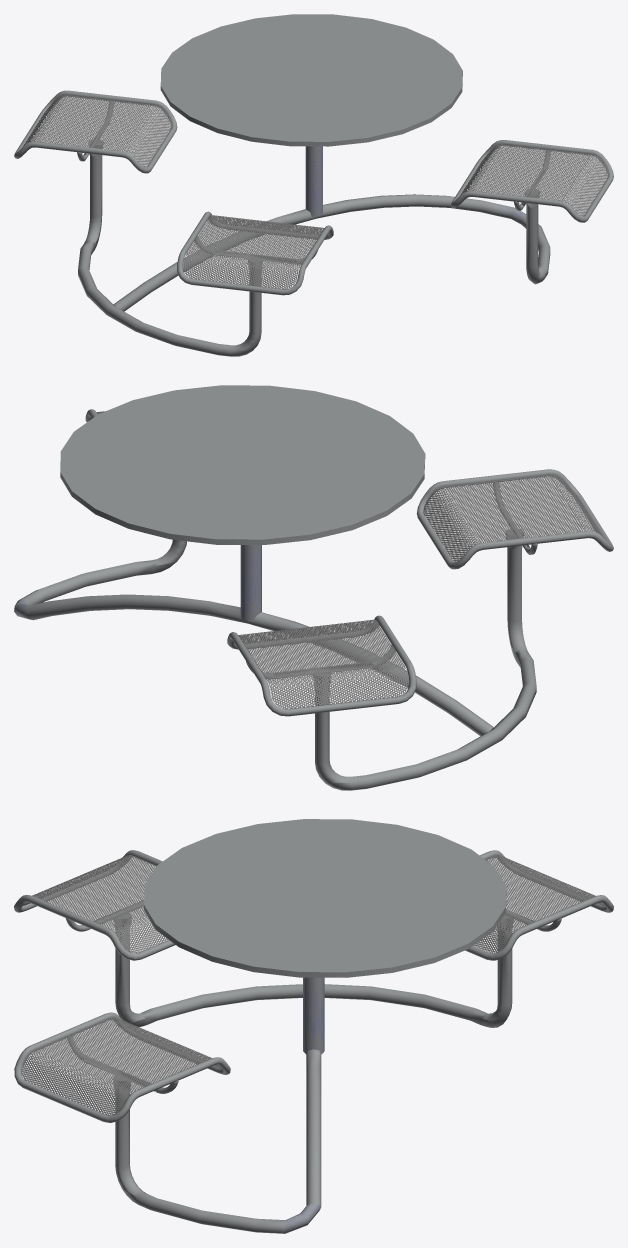
File: table.fbx
3 views of the same model, one above another, from view 1: azimuth 30°, elevation 25°; view 2: azimuth 150°, elevation 25°; view 3: azimuth 270°, elevation 25° (orthographic). The views are drawn at different scales.
Parts seen in each view (by area): view 1: Component_4_1, CAR__BACKED_SEAT_1_2, CAR__BACKED_SEAT_1_3, CAR__BACKED_SEAT_1_1, Component_6_1, Component_1_1, Model; view 2: Component_4_1, CAR__BACKED_SEAT_1_1, CAR__BACKED_SEAT_1_2, Component_6_1, Component_1_1, Model; view 3: Component_4_1, CAR__BACKED_SEAT_1_3, CAR__BACKED_SEAT_1_2, Component_6_1, Component_1_1, CAR__BACKED_SEAT_1_1, Model.
Boxes of the visible parts, <box> form: Component_4_1: <box>160,14,462,146</box>; CAR__BACKED_SEAT_1_2: <box>177,211,333,295</box>; CAR__BACKED_SEAT_1_3: <box>450,140,613,222</box>; CAR__BACKED_SEAT_1_1: <box>14,90,177,173</box>; Component_6_1: <box>78,140,316,356</box>; Component_1_1: <box>316,189,550,284</box>; Model: <box>305,146,322,216</box>; Component_4_1: <box>60,385,425,544</box>; CAR__BACKED_SEAT_1_1: <box>227,615,416,716</box>; CAR__BACKED_SEAT_1_2: <box>416,469,613,569</box>; Component_6_1: <box>248,529,536,790</box>; Component_1_1: <box>14,539,248,623</box>; Model: <box>240,545,261,621</box>; Component_4_1: <box>144,819,506,977</box>; CAR__BACKED_SEAT_1_3: <box>14,1012,230,1122</box>; CAR__BACKED_SEAT_1_2: <box>14,850,175,960</box>; Component_6_1: <box>114,913,513,1027</box>; Component_1_1: <box>113,1049,321,1233</box>; CAR__BACKED_SEAT_1_1: <box>465,850,613,960</box>; Model: <box>303,977,324,1054</box>.
Size of the model in its own units: 69.06 by 28.18 by 69.02.
